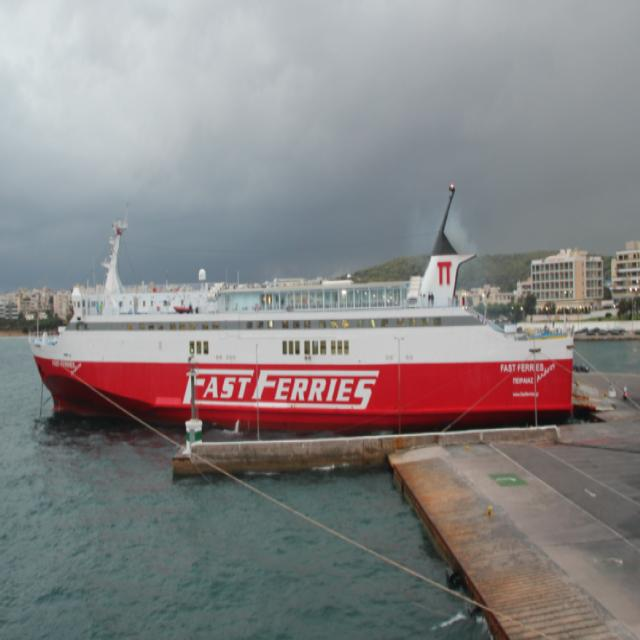passenger ship: (28, 223, 585, 424)
